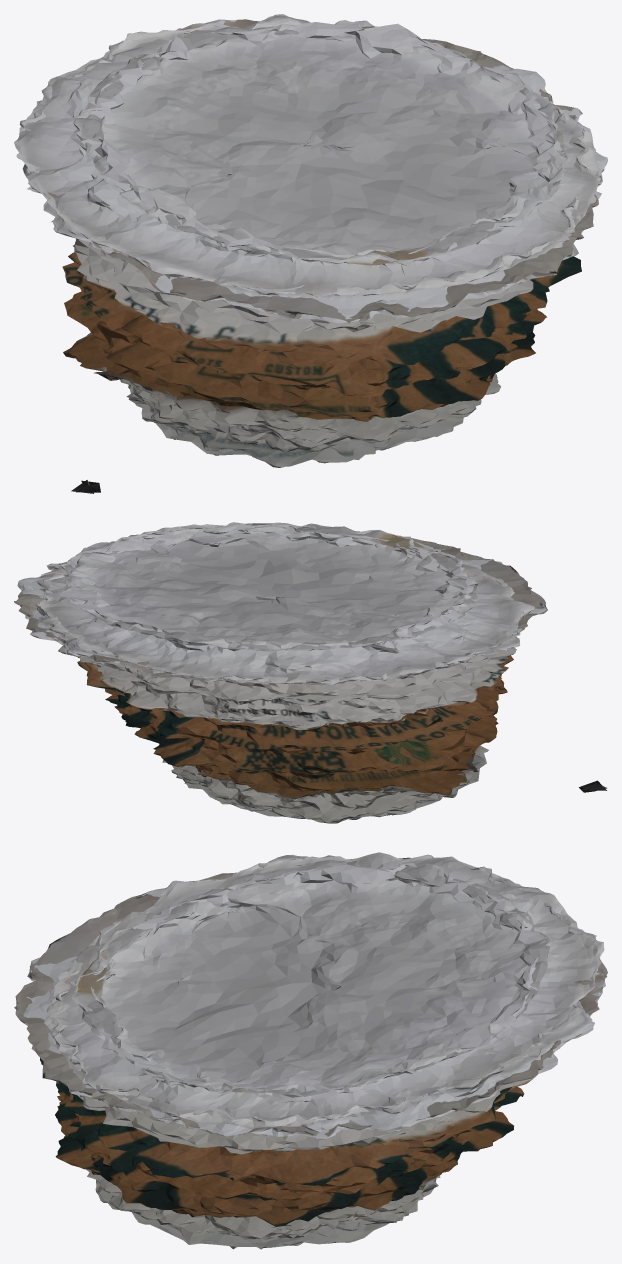
File: crush_high_0.obj
3 renders of one model, top to bottom at view 1: azimuth 30°, elevation 25°; view 2: azimuth 150°, elevation 25°; view 3: azimuth 270°, elevation 25°, orthographic. The views are drawn at different scales.
Parts seen in each view (by area): view 1: Object_0; view 2: Object_0; view 3: Object_0.
Boxes of the visible parts, x1,y1,x2,y2 form: Object_0: (14, 14, 607, 493); Object_0: (14, 522, 607, 823); Object_0: (14, 852, 607, 1249).
Bounding box in the file's own units: 0.0693 × 0.0281 × 0.0616.
Materials: 1 (1 with a texture image).
